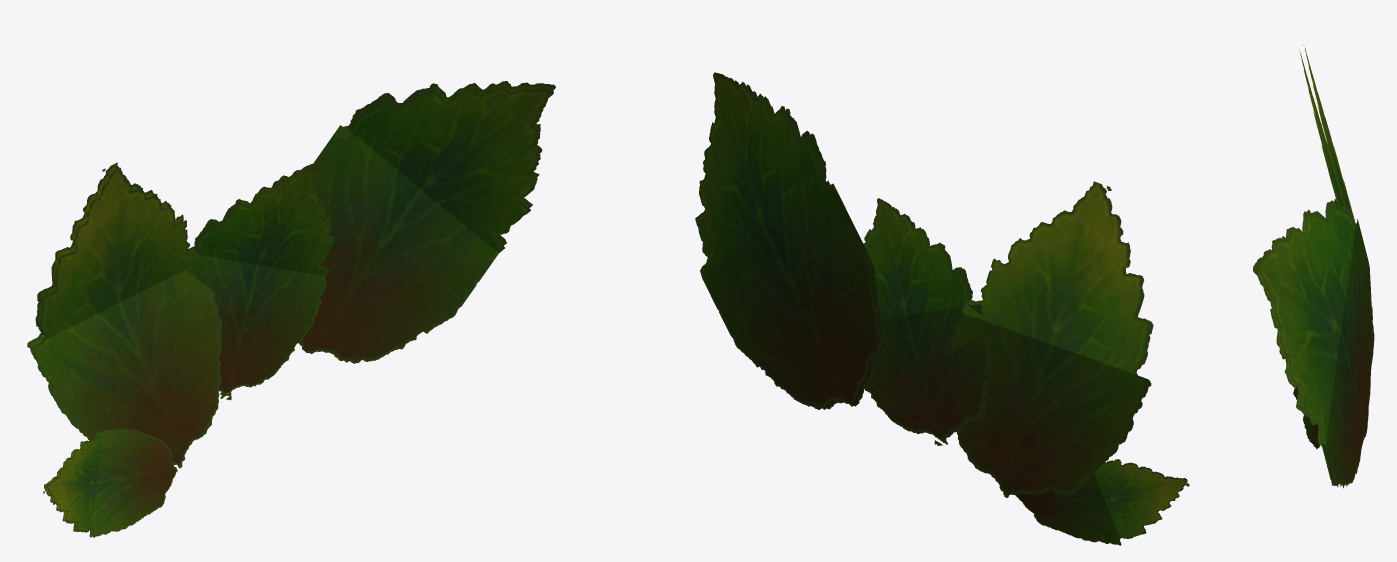
The model's file is zhanchang_fuben_376_shuiguo_04_c.obj.
3 views of the same model, side by side, from view 1: azimuth 30°, elevation 25°; view 2: azimuth 150°, elevation 25°; view 3: azimuth 270°, elevation 25° (orthographic). The views are drawn at different scales.
Parts seen in each view (by area): view 1: zhanchang_fuben_376_shuiguo_04_c; view 2: zhanchang_fuben_376_shuiguo_04_c; view 3: zhanchang_fuben_376_shuiguo_04_c.
Boxes of the visible parts, left/top/right/bottom form: zhanchang_fuben_376_shuiguo_04_c: left=27, top=81, right=555, bottom=537; zhanchang_fuben_376_shuiguo_04_c: left=695, top=72, right=1189, bottom=545; zhanchang_fuben_376_shuiguo_04_c: left=1253, top=45, right=1374, bottom=488.
Size of the model in its own units: 231 by 172 by 47.22.
Materials: 1 (1 with a texture image).
